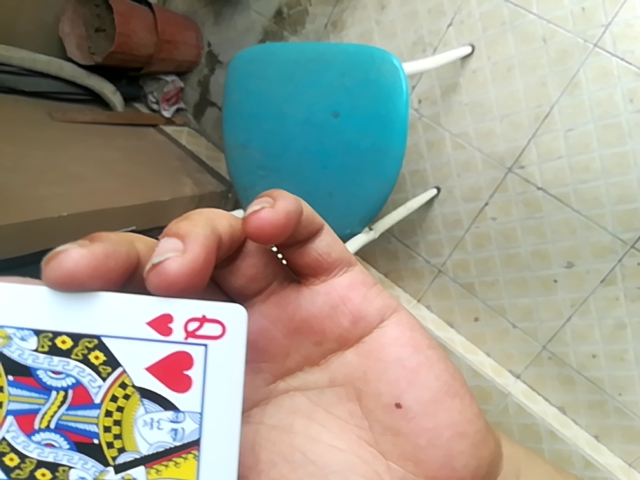hx q: (0, 263, 250, 480)
